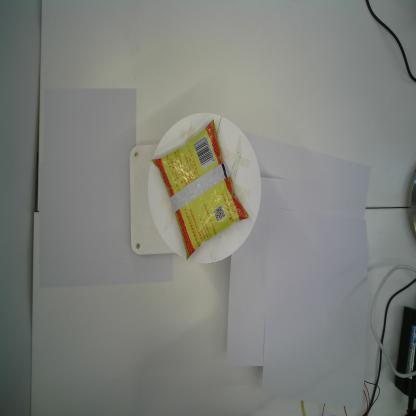Seasoner: (151, 117, 251, 260)
